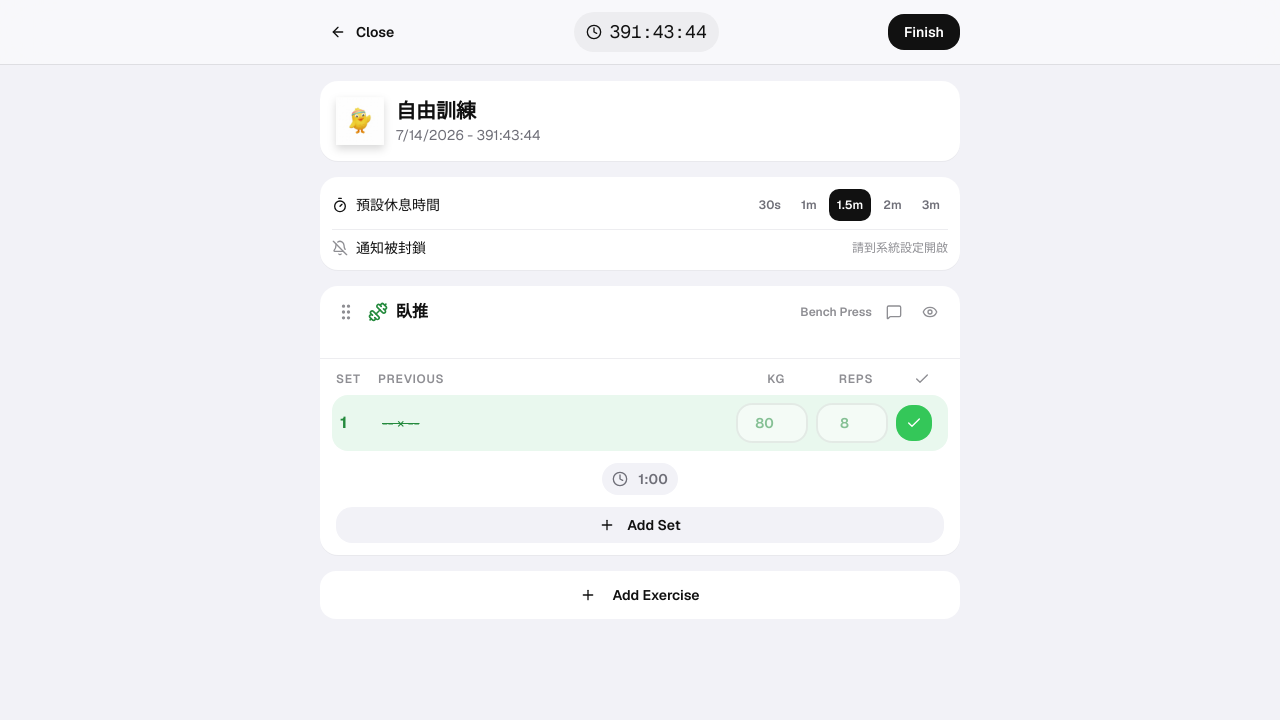
Test: workout finish flow › shows a retry action after a close-flow save failure
Click the button "Close" at point(362, 32), box [320, 16, 404, 48]
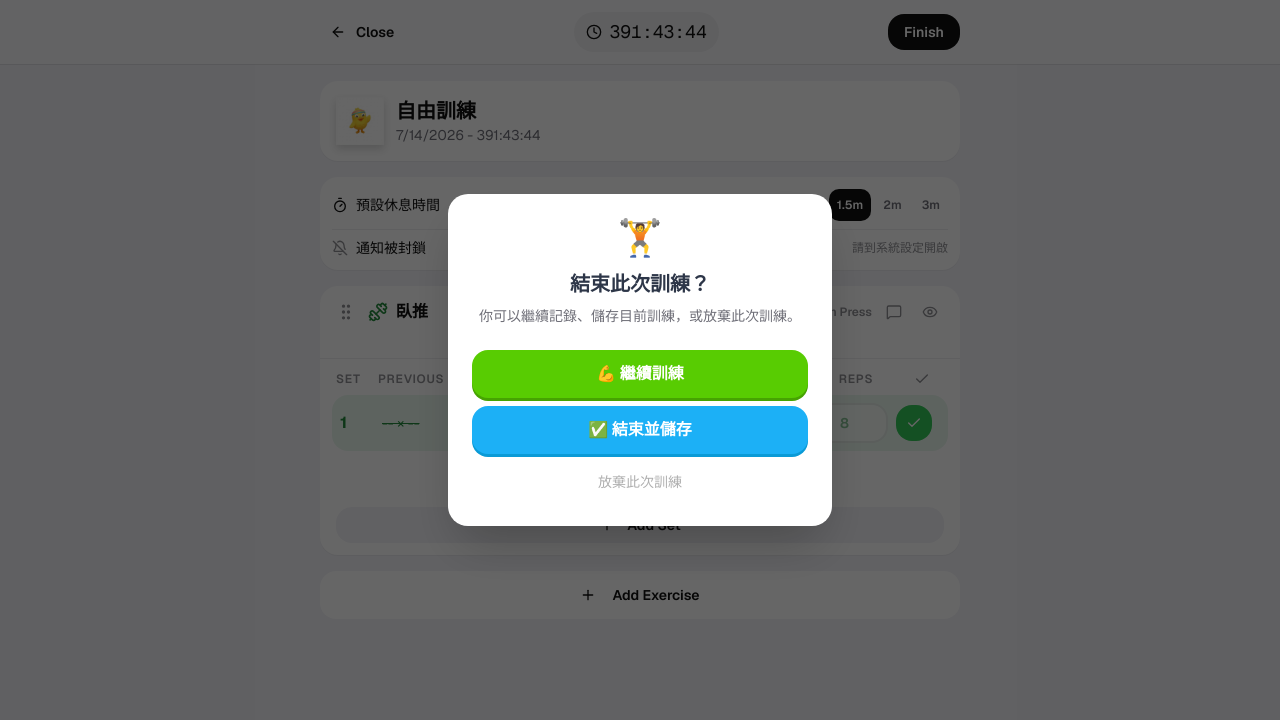
Click the button "✅ 結束並儲存" at point(640, 430), box [472, 406, 808, 454]
(page scrolled)
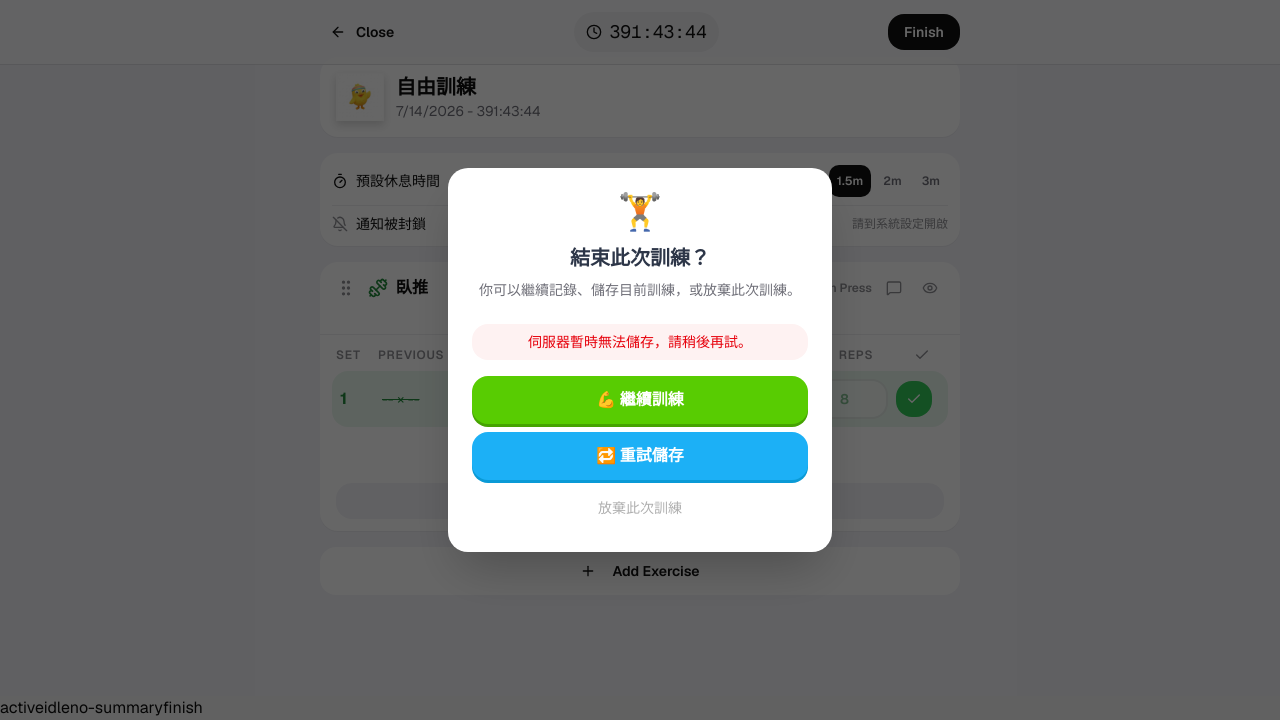
Expected: the text "active" is shown, [0, 697, 44, 718]
Now the message shows "伺服器暫時無法儲存", box [528, 333, 752, 351]
Now the button "🔁 重試儲存" is shown, box [472, 432, 808, 480]
